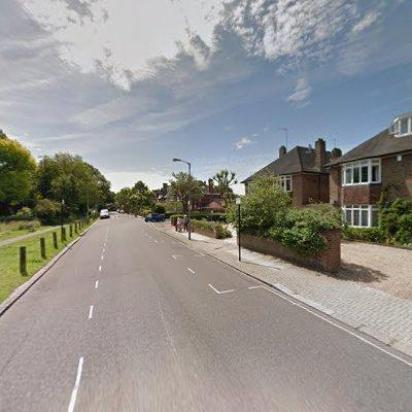moving-car: (144, 212, 166, 224)
stationary-light-truck-onstreet: (100, 209, 112, 221)
